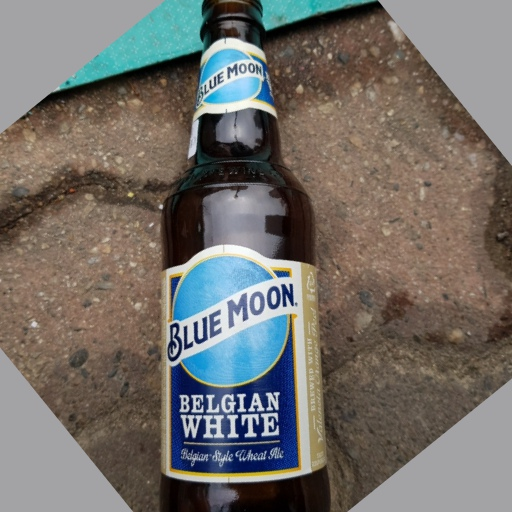Glass_1: (154, 1, 330, 512)
